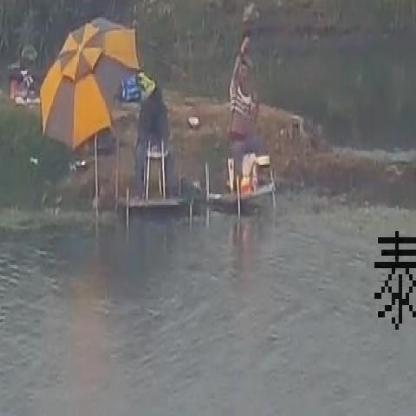other: (35, 21, 143, 160)
